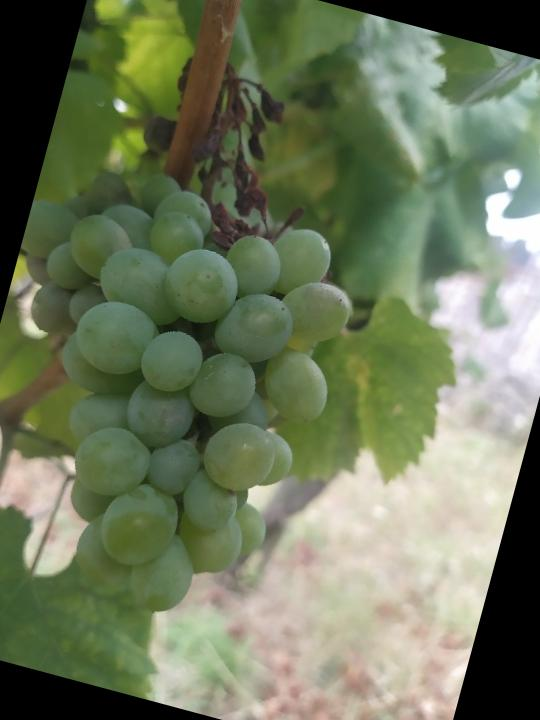grape: (0, 19, 412, 647)
